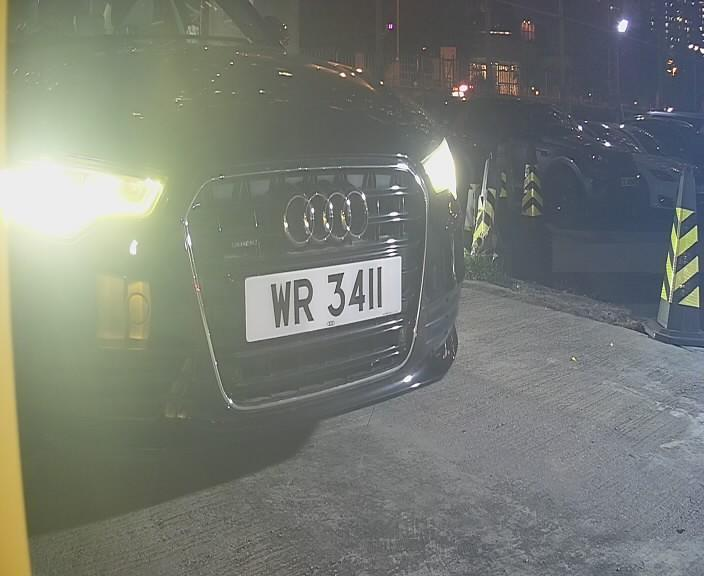privatecar: (16, 13, 472, 453)
